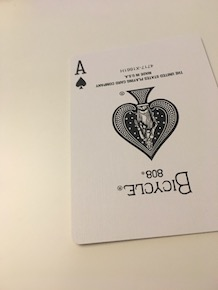AceOfSpades: (64, 33, 218, 247)
